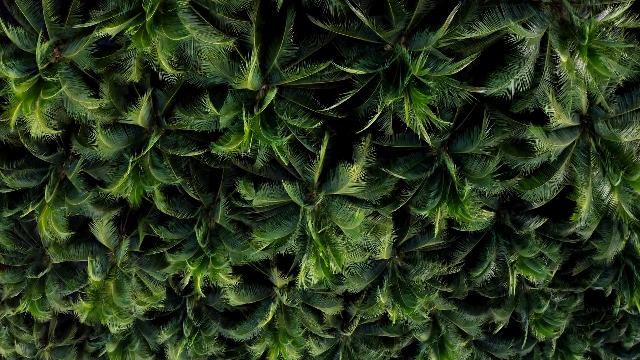trees: (192, 1, 338, 97), (193, 79, 329, 170), (460, 190, 572, 298), (536, 4, 640, 109), (229, 262, 334, 359), (348, 41, 439, 141), (485, 102, 582, 194), (106, 69, 204, 160), (560, 121, 639, 233), (260, 173, 356, 259), (399, 144, 492, 231), (382, 240, 470, 330), (343, 2, 451, 73), (2, 29, 99, 108), (474, 274, 574, 349), (563, 221, 640, 315), (11, 152, 86, 244), (93, 131, 181, 209), (161, 2, 248, 80), (165, 214, 245, 294), (473, 24, 549, 107), (6, 247, 89, 321), (76, 257, 157, 331), (558, 293, 638, 359), (106, 2, 180, 55), (312, 308, 387, 360), (412, 310, 476, 360), (32, 314, 85, 360), (2, 219, 47, 262), (106, 322, 156, 360)
